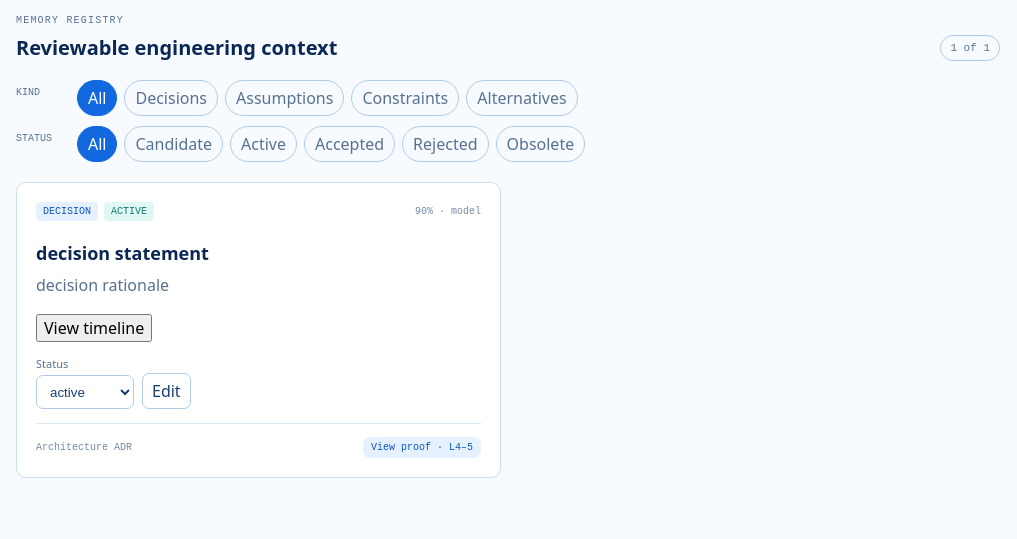
Scenario: MemoryView › shows temporal decision transitions without hiding source evidence
Click the button "View timeline": (94, 328) [36,314,152,342]
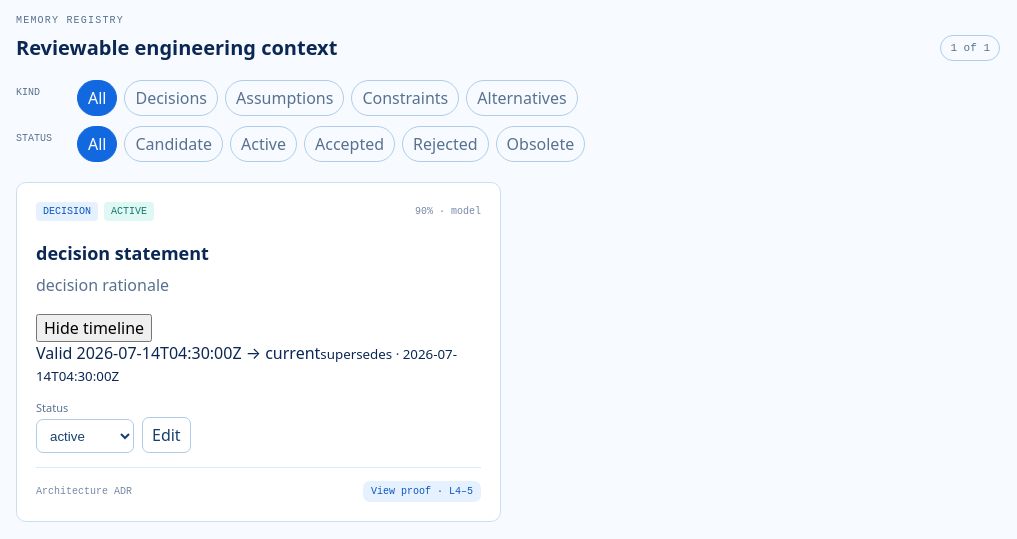
Expected: the button "View proof · L4–5" is shown, [363,481,481,502]
Now the text "Valid 2026-07-14T04:30:00Z → current" is shown, box [36,342,320,364]
Now the text "supersedes · 2026-07-14T04:30:00Z" is shown, box [36,345,457,385]
